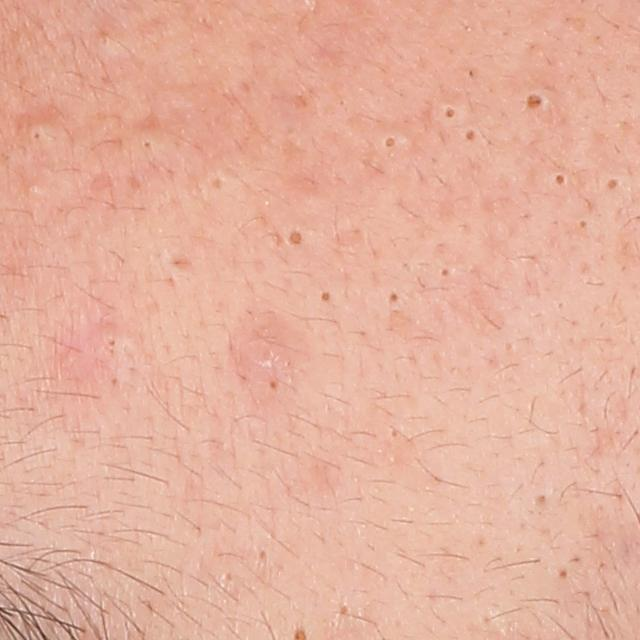comedo: (519, 82, 557, 112), (461, 123, 484, 148), (382, 129, 405, 152), (316, 285, 338, 309), (434, 261, 455, 285), (442, 102, 461, 125), (388, 288, 407, 311), (549, 168, 568, 190), (566, 215, 593, 230), (137, 135, 157, 155), (604, 175, 624, 194), (534, 489, 552, 509), (208, 172, 225, 193), (104, 334, 124, 351), (336, 600, 353, 618), (557, 564, 574, 581), (265, 379, 286, 390)
